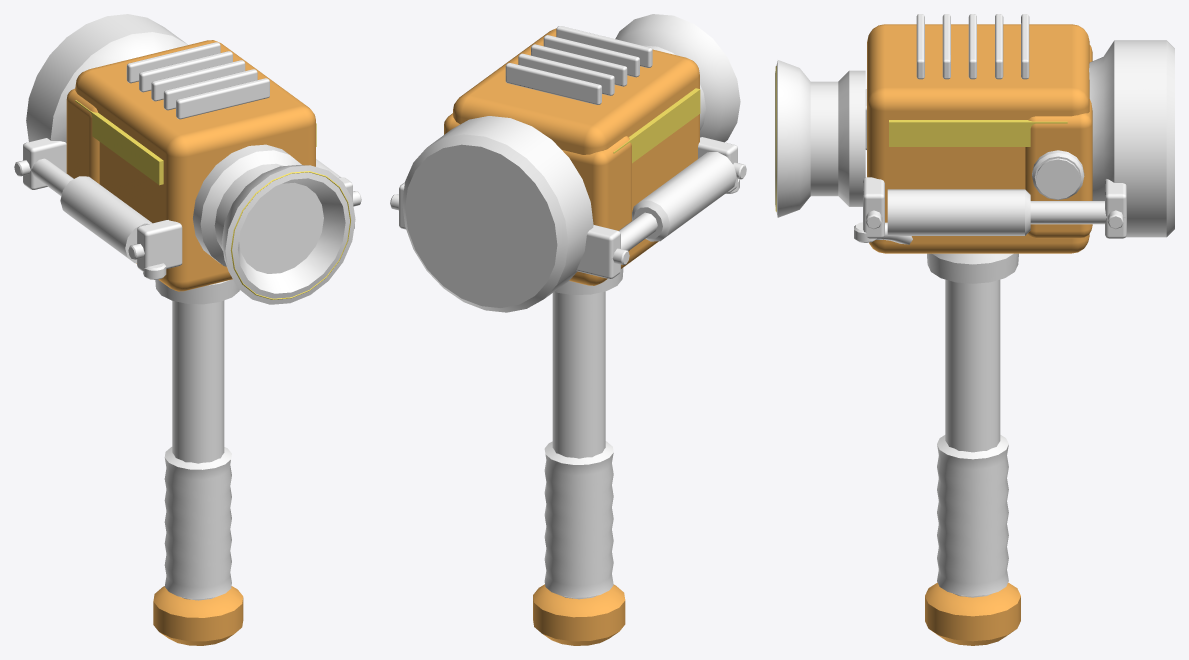
File: PowerHammer.glb
3 views of the same model, side by side, from view 1: azimuth 30°, elevation 25°; view 2: azimuth 150°, elevation 25°; view 3: azimuth 270°, elevation 25° (orthographic). The views are drawn at different scales.
Parts seen in each view (by area): view 1: Base, Primary, AccentTrim, AccentGlow; view 2: Base, Primary, AccentTrim, AccentGlow; view 3: Base, Primary, AccentTrim, AccentGlow.
Boxes of the visible parts, box(x1,y1,x2,y2) form: Base: box(14, 14, 361, 600); Primary: box(66, 40, 315, 291); AccentTrim: box(153, 586, 243, 645); AccentGlow: box(75, 100, 350, 299); Base: box(390, 14, 746, 599); Primary: box(444, 28, 699, 285); AccentTrim: box(533, 584, 625, 645); AccentGlow: box(613, 88, 700, 163); Base: box(775, 14, 1174, 597); Primary: box(867, 24, 1092, 253); AccentTrim: box(925, 582, 1020, 645); AccentGlow: box(775, 66, 1067, 211).
Size of the model in its own units: 2.02 by 4.77 by 2.91.
